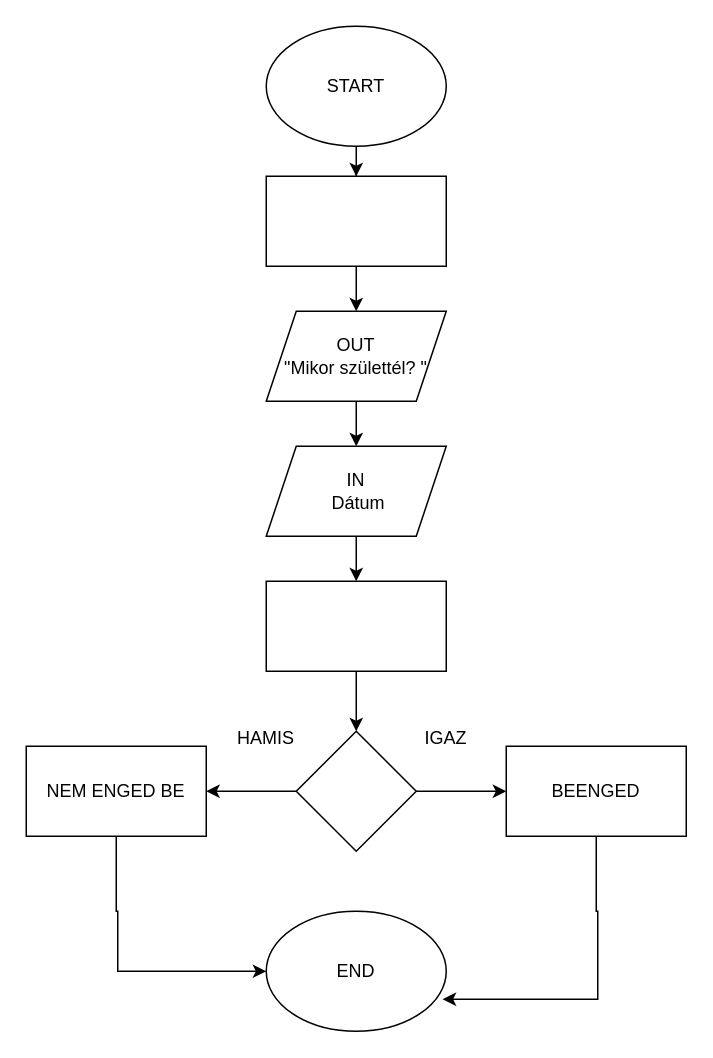
This 713x1058 diagram has some shape labels left out. Each missing label, with the centre of its shape:
dátum, aktuális dátum, kor: the point at 355,220
kor = aktuális dátum - dátum: the point at 355,625
KOR>=18: the point at 355,790
